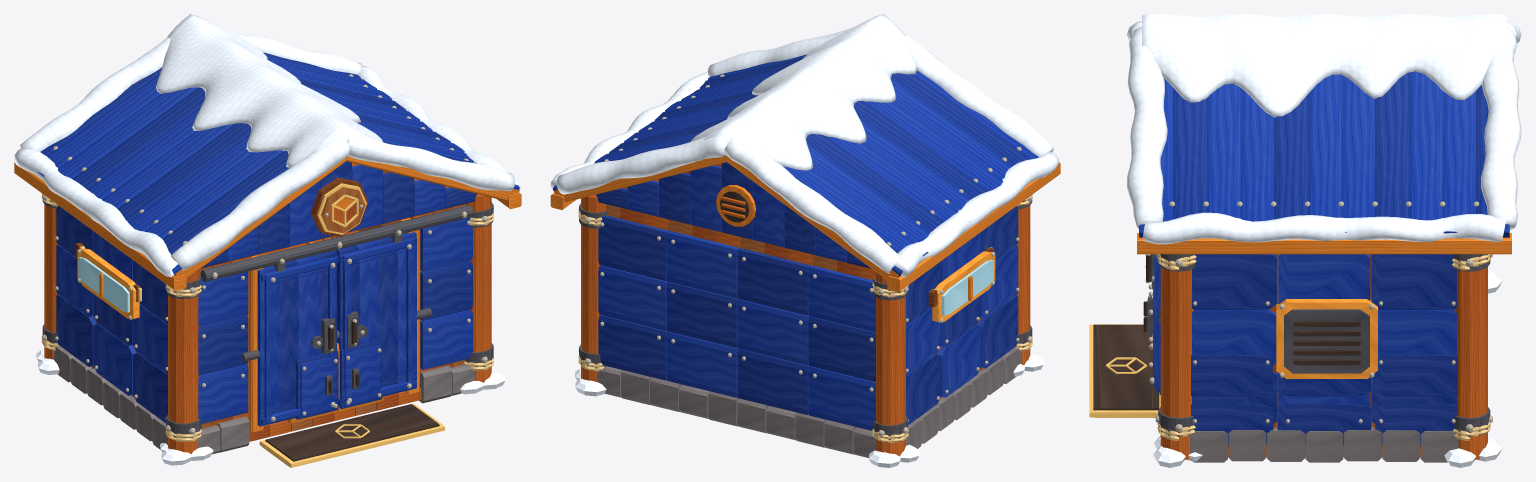
File: camp_storehouse.glb
The picture shows the model from 3 angles, left to right: view 1: azimuth 30°, elevation 25°; view 2: azimuth 150°, elevation 25°; view 3: azimuth 270°, elevation 25°; orthographic projection. The views are drawn at different scales.
Visible parts, largest first — view 1: Roof, FacadeArmor, LeftArmor, Floor, DoorLeft, GableArmor, DoorRight, Footing, Apron, Track, DoorRightArmor, Facade (+8 smaller); view 2: Roof, BackArmor, LeftArmor, Footing, Floor, GableArmor, BackWall, LeftDetail, Signs, StarterRope; view 3: Roof, RightArmor, CutawayPanels, Footing, RightDetail, Floor, Apron, WholeRightPost, CutRightPost, StarterRope, DoorRightArmor, DoorRight (+1 smaller).
Boxes of the visible parts, bbox=[...] form: Roof: bbox=[14, 14, 521, 290]; FacadeArmor: bbox=[198, 217, 472, 423]; LeftArmor: bbox=[55, 205, 167, 423]; Floor: bbox=[36, 204, 505, 465]; DoorLeft: bbox=[257, 250, 338, 426]; GableArmor: bbox=[202, 161, 476, 267]; DoorRight: bbox=[334, 226, 416, 406]; Footing: bbox=[42, 194, 493, 454]; Apron: bbox=[259, 403, 444, 467]; Track: bbox=[200, 205, 473, 281]; DoorRightArmor: bbox=[342, 238, 414, 405]; Facade: bbox=[199, 204, 466, 432]; Roof: bbox=[550, 14, 1060, 292]; BackArmor: bbox=[598, 215, 875, 430]; LeftArmor: bbox=[906, 206, 1019, 425]; Footing: bbox=[578, 195, 1032, 457]; Floor: bbox=[574, 194, 1043, 467]; GableArmor: bbox=[596, 162, 871, 268]; BackWall: bbox=[606, 204, 874, 427]; LeftDetail: bbox=[932, 251, 995, 322]; Signs: bbox=[716, 185, 756, 226]; StarterRope: bbox=[578, 194, 1032, 442]; Roof: bbox=[1127, 14, 1521, 254]; RightArmor: bbox=[1192, 254, 1456, 423]; CutawayPanels: bbox=[1191, 355, 1457, 447]; Footing: bbox=[1155, 254, 1492, 462]; RightDetail: bbox=[1276, 299, 1377, 378]; Floor: bbox=[1153, 267, 1502, 467]; Apron: bbox=[1089, 324, 1160, 417]; WholeRightPost: bbox=[1160, 267, 1193, 459]; CutRightPost: bbox=[1160, 311, 1191, 459]; StarterRope: bbox=[1157, 254, 1490, 440]; DoorRightArmor: bbox=[1149, 254, 1158, 389]; DoorRight: bbox=[1145, 254, 1160, 394].
Size of the model in its own units: 3.7 by 3.02 by 3.27.
Materials: 1 (1 with a texture image).
